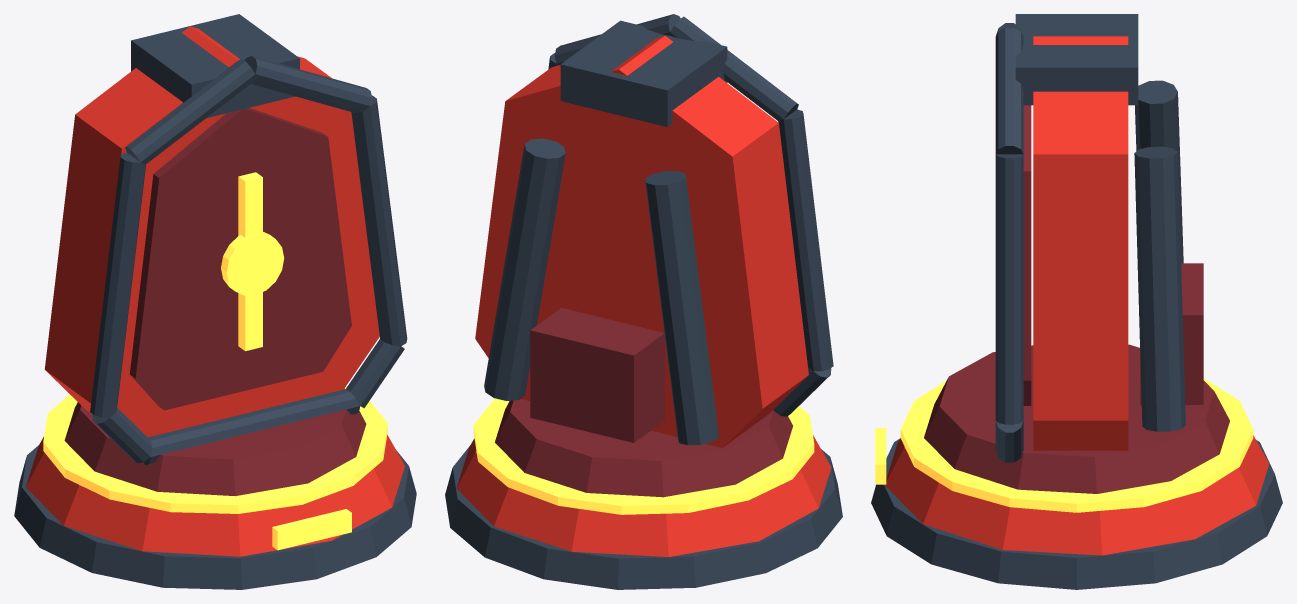
Rendered from shield_red.glb.
3 renders of one model, left to right at view 1: azimuth 30°, elevation 25°; view 2: azimuth 150°, elevation 25°; view 3: azimuth 270°, elevation 25°, orthographic. The views are drawn at different scales.
Parts seen in each view (by area): view 1: shield_red_Front_Armor_Panel, shield_red_Armor_Shell, shield_red_Front_Frame, shield_red_Base_Lower, shield_red_Base_Armor, shield_red_Base_Deck, shield_red_Base_Light_Ring, shield_red_Top_Armor, shield_red_Energy_Node, shield_red_Energy_Slit, shield_red_Status_Light; view 2: shield_red_Armor_Shell, shield_red_Base_Armor, shield_red_Base_Deck, shield_red_Base_Lower, shield_red_Rear_Power, shield_red_Front_Frame, shield_red_Rear_Brace_Left, shield_red_Rear_Brace_Right, shield_red_Top_Armor, shield_red_Base_Light_Ring; view 3: shield_red_Armor_Shell, shield_red_Base_Deck, shield_red_Base_Armor, shield_red_Base_Lower, shield_red_Rear_Brace_Right, shield_red_Front_Frame, shield_red_Base_Light_Ring, shield_red_Top_Armor, shield_red_Rear_Brace_Left, shield_red_Rear_Power, shield_red_Front_Armor_Panel, shield_red_Status_Light.
Boxes of the visible parts, <box> form: shield_red_Front_Armor_Panel: <box>130,107,351,410</box>; shield_red_Armor_Shell: <box>44,26,379,437</box>; shield_red_Front_Frame: <box>90,56,407,465</box>; shield_red_Base_Lower: <box>14,445,416,589</box>; shield_red_Base_Armor: <box>26,435,404,556</box>; shield_red_Base_Deck: <box>64,388,366,496</box>; shield_red_Base_Light_Ring: <box>43,386,387,513</box>; shield_red_Top_Armor: <box>131,14,299,117</box>; shield_red_Energy_Node: <box>221,232,284,295</box>; shield_red_Energy_Slit: <box>238,172,262,351</box>; shield_red_Status_Light: <box>272,509,351,550</box>; shield_red_Armor_Shell: <box>475,36,808,447</box>; shield_red_Base_Armor: <box>456,435,831,556</box>; shield_red_Base_Deck: <box>495,399,792,497</box>; shield_red_Base_Lower: <box>445,446,842,589</box>; shield_red_Rear_Power: <box>530,308,664,442</box>; shield_red_Front_Frame: <box>548,14,833,416</box>; shield_red_Rear_Brace_Left: <box>645,171,718,445</box>; shield_red_Rear_Brace_Right: <box>484,138,565,400</box>; shield_red_Top_Armor: <box>560,20,727,126</box>; shield_red_Base_Light_Ring: <box>473,398,814,514</box>; shield_red_Armor_Shell: <box>1033,36,1128,450</box>; shield_red_Base_Deck: <box>924,344,1229,493</box>; shield_red_Base_Armor: <box>885,435,1269,555</box>; shield_red_Base_Lower: <box>871,438,1282,589</box>; shield_red_Rear_Brace_Right: <box>1134,146,1185,431</box>; shield_red_Front_Frame: <box>995,23,1023,462</box>; shield_red_Base_Light_Ring: <box>900,378,1253,512</box>; shield_red_Top_Armor: <box>1015,14,1138,105</box>; shield_red_Rear_Brace_Left: <box>1135,80,1183,263</box>; shield_red_Rear_Power: <box>1140,263,1203,404</box>; shield_red_Front_Armor_Panel: <box>1023,105,1031,405</box>; shield_red_Status_Light: <box>875,428,886,484</box>.
Bounding box in the file's own units: 1.04 × 1.33 × 1.04.
